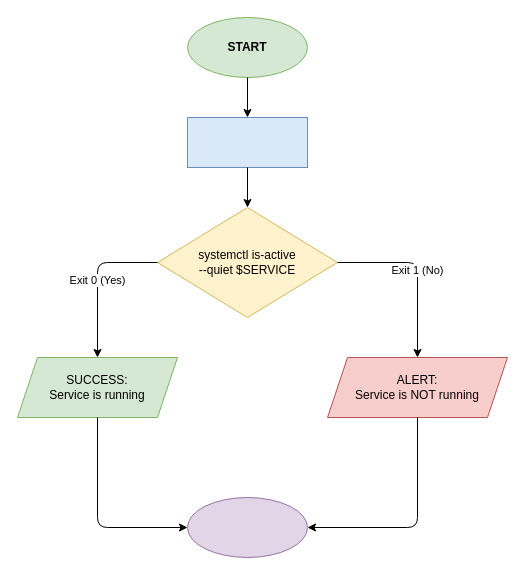
This 525x575 diagram has some shape labels left out. Each missing label, with the centre of its shape:
END: point 247,527
Set SERVICE="ssh": point 247,142
